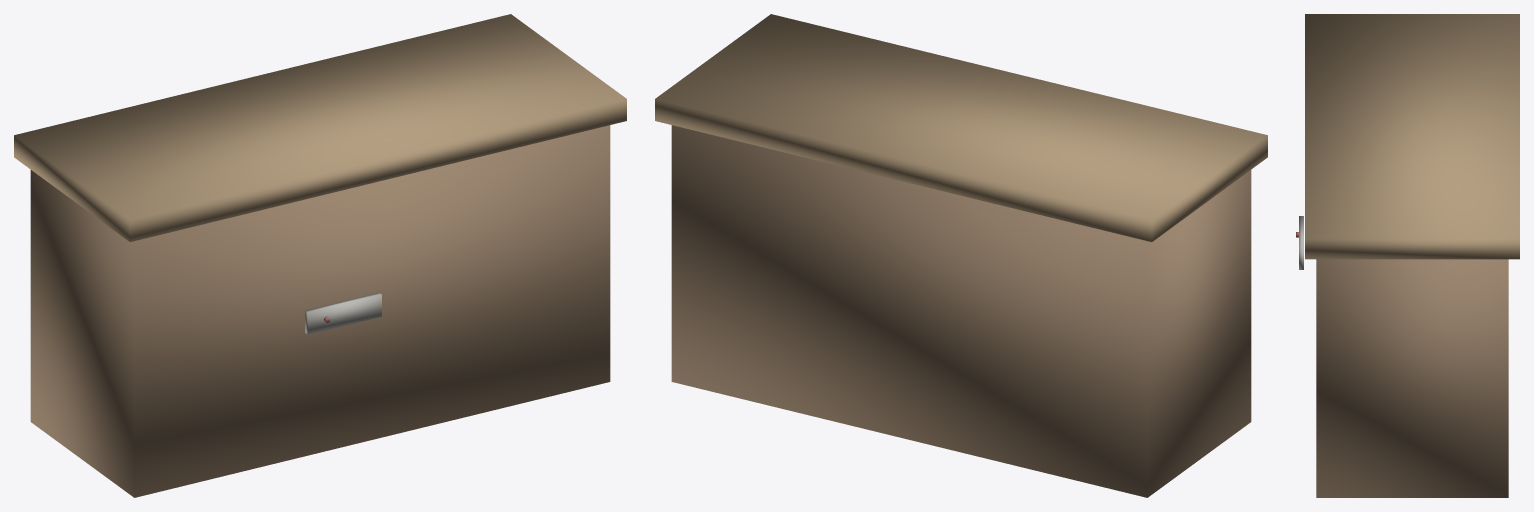
The model's file is bagging_stand.glb.
3 renders of one model, left to right at view 1: azimuth 30°, elevation 25°; view 2: azimuth 150°, elevation 25°; view 3: azimuth 270°, elevation 25°, orthographic. The views are drawn at different scales.
Parts seen in each view (by area): view 1: world; view 2: world; view 3: world.
Part boxes in pixels (x1,y1,x2,y2): world: [14, 14, 626, 497]; world: [655, 14, 1267, 497]; world: [1296, 14, 1519, 497].
Bounding box in the file's own units: 1.88 × 1.03 × 0.791.
